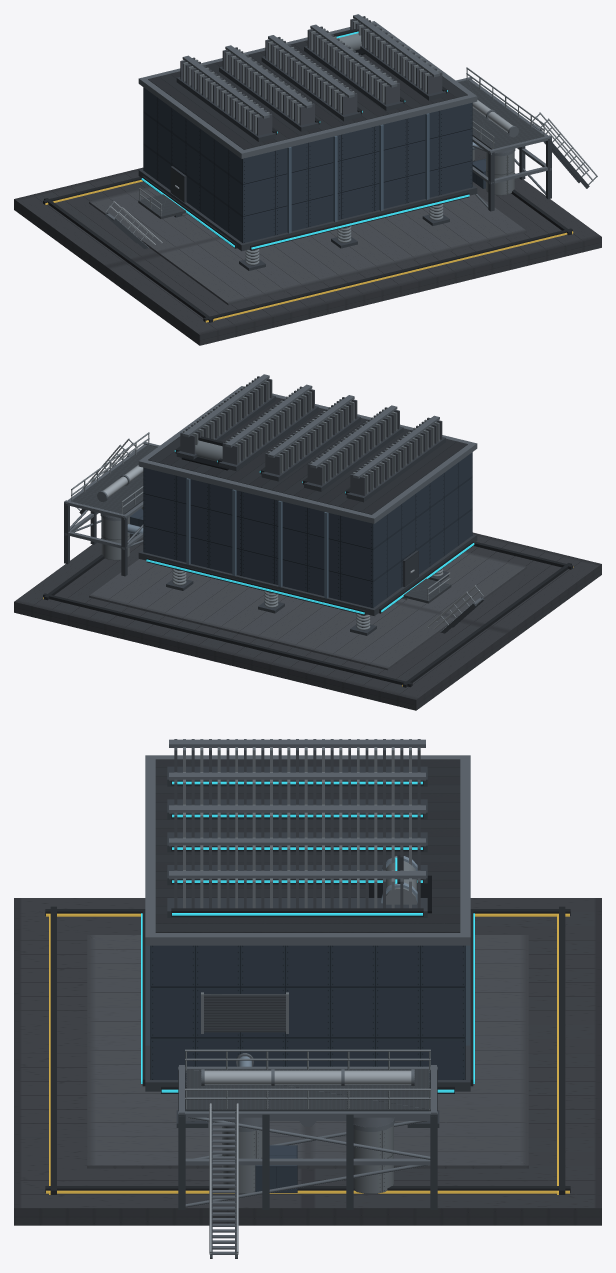
Rendered from trg-9-built.glb.
3 renders of one model, top to bottom at view 1: azimuth 30°, elevation 25°; view 2: azimuth 150°, elevation 25°; view 3: azimuth 270°, elevation 25°, orthographic. The views are drawn at different scales.
Bounding box in the file's own units: 40.05 × 13.8 × 28.
23 materials, 12 textured.
